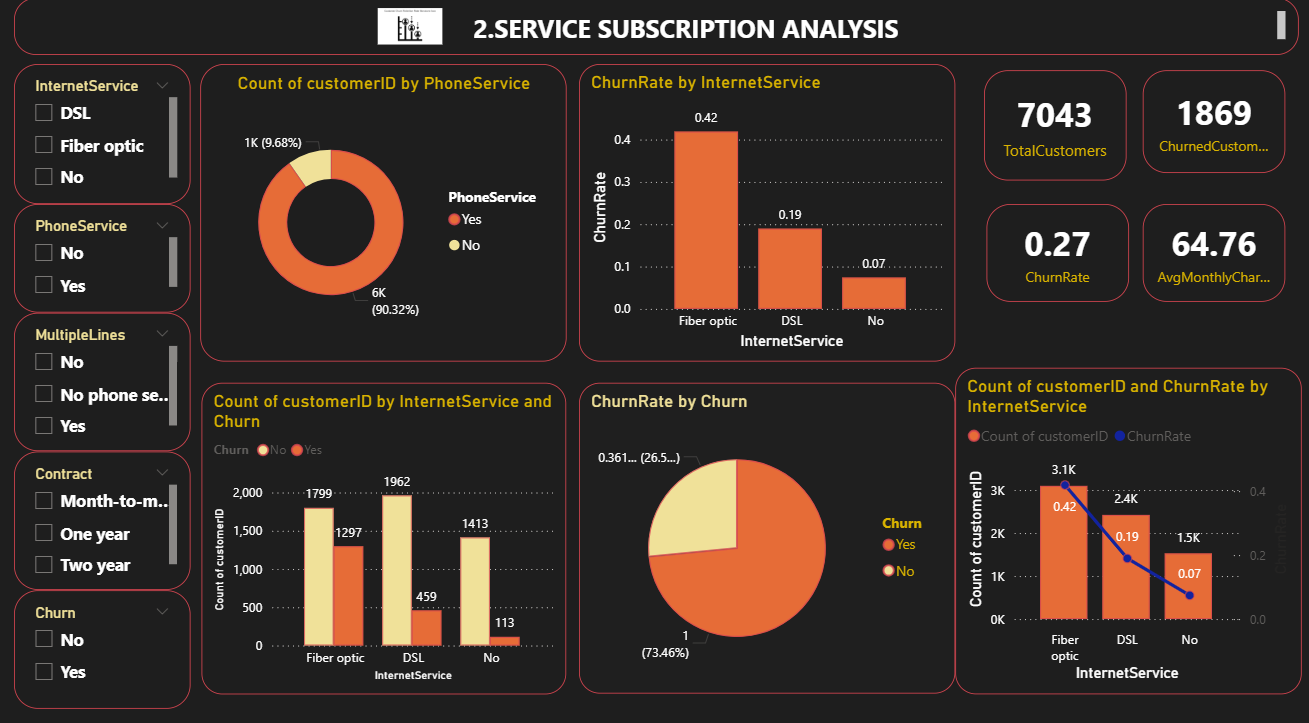

The page's visual inventory and layout, read from the dashboard file:
{"tool":"powerbi","page":{"name":"Dashboard 2","canvas":[1280,720],"ordinal":1},"visuals":[{"type":"textbox","box":[24.1,8.4,1240.2,55.5],"z":0},{"type":"slicer","fields":{"Values":["WA_Fn-UseC_-Telco-Customer-Churn.InternetService"]},"box":[24.1,72.4,170.1,135.1],"z":1000},{"type":"slicer","fields":{"Values":["WA_Fn-UseC_-Telco-Customer-Churn.PhoneService"]},"box":[24.1,207.5,170.1,105],"z":2000},{"type":"slicer","fields":{"Values":["WA_Fn-UseC_-Telco-Customer-Churn.MultipleLines"]},"box":[24.1,312.5,170.1,133.9],"z":3000},{"type":"slicer","fields":{"Values":["WA_Fn-UseC_-Telco-Customer-Churn.Contract"]},"box":[24.1,446.4,170.1,133.9],"z":4000},{"type":"slicer","fields":{"Values":["WA_Fn-UseC_-Telco-Customer-Churn.Churn"]},"box":[24.1,580.3,170.1,114.6],"z":5000},{"type":"donutChart","fields":{"Category":["WA_Fn-UseC_-Telco-Customer-Churn.PhoneService"],"Y":["CountNonNull(WA_Fn-UseC_-Telco-Customer-Churn.customerID)"]},"box":[203.9,72.4,353.5,287.1],"z":6000},{"type":"card","fields":{"Values":["WA_Fn-UseC_-Telco-Customer-Churn.TotalCustomers"]},"box":[960.3,78.4,137.5,106.2],"z":7000},{"type":"card","fields":{"Values":["WA_Fn-UseC_-Telco-Customer-Churn.ChurnedCustomers"]},"box":[1113.5,78.4,137.5,98.9],"z":8000},{"type":"card","fields":{"Values":["WA_Fn-UseC_-Telco-Customer-Churn.ChurnRate"]},"box":[962.7,207.5,137.5,94.1],"z":9000},{"type":"card","fields":{"Values":["WA_Fn-UseC_-Telco-Customer-Churn.AvgMonthlyCharge"]},"box":[1113.5,207.5,137.5,94.1],"z":10000},{"type":"clusteredColumnChart","fields":{"Category":["WA_Fn-UseC_-Telco-Customer-Churn.InternetService"],"Y":["WA_Fn-UseC_-Telco-Customer-Churn.ChurnRate"]},"box":[569.4,72.4,363.1,287.1],"z":11000},{"type":"clusteredColumnChart","fields":{"Category":["WA_Fn-UseC_-Telco-Customer-Churn.InternetService"],"Y":["CountNonNull(WA_Fn-UseC_-Telco-Customer-Churn.customerID)"],"Series":["WA_Fn-UseC_-Telco-Customer-Churn.Churn"]},"box":[205.1,380,352.3,300.4],"z":12000},{"type":"lineClusteredColumnComboChart","fields":{"Category":["WA_Fn-UseC_-Telco-Customer-Churn.InternetService"],"Y":["CountNonNull(WA_Fn-UseC_-Telco-Customer-Churn.customerID)"],"Y2":["WA_Fn-UseC_-Telco-Customer-Churn.ChurnRate"]},"box":[932.6,365.6,334.2,314.9],"z":13000},{"type":"pieChart","fields":{"Category":["WA_Fn-UseC_-Telco-Customer-Churn.Churn"],"Y":["WA_Fn-UseC_-Telco-Customer-Churn.ChurnRate"]},"box":[569,380,363,300],"z":14000},{"type":"image","box":[370.4,0,72.4,72.4],"z":15000}]}

Visuals, with their boxes in screenshot pixels (x1, y1, x2, y2), scaled from the page's 1280x720 canvas onto the 1309x723 screenshot:
textbox: 25 8 1293 64
slicer - WA_Fn-UseC_-Telco-Customer-Churn.InternetService: 25 73 199 208
slicer - WA_Fn-UseC_-Telco-Customer-Churn.PhoneService: 25 208 199 314
slicer - WA_Fn-UseC_-Telco-Customer-Churn.MultipleLines: 25 314 199 448
slicer - WA_Fn-UseC_-Telco-Customer-Churn.Contract: 25 448 199 583
slicer - WA_Fn-UseC_-Telco-Customer-Churn.Churn: 25 583 199 698
donutChart - WA_Fn-UseC_-Telco-Customer-Churn.PhoneService x CountNonNull(WA_Fn-UseC_-Telco-Customer-Churn.customerID): 209 73 570 361
card - WA_Fn-UseC_-Telco-Customer-Churn.TotalCustomers: 982 79 1123 185
card - WA_Fn-UseC_-Telco-Customer-Churn.ChurnedCustomers: 1139 79 1279 178
card - WA_Fn-UseC_-Telco-Customer-Churn.ChurnRate: 985 208 1125 303
card - WA_Fn-UseC_-Telco-Customer-Churn.AvgMonthlyCharge: 1139 208 1279 303
clusteredColumnChart - WA_Fn-UseC_-Telco-Customer-Churn.InternetService x WA_Fn-UseC_-Telco-Customer-Churn.ChurnRate: 582 73 954 361
clusteredColumnChart - WA_Fn-UseC_-Telco-Customer-Churn.InternetService x CountNonNull(WA_Fn-UseC_-Telco-Customer-Churn.customerID): 210 382 570 683
lineClusteredColumnComboChart - WA_Fn-UseC_-Telco-Customer-Churn.InternetService x CountNonNull(WA_Fn-UseC_-Telco-Customer-Churn.customerID): 954 367 1296 683
pieChart - WA_Fn-UseC_-Telco-Customer-Churn.Churn x WA_Fn-UseC_-Telco-Customer-Churn.ChurnRate: 582 382 953 683
image: 379 0 453 73
